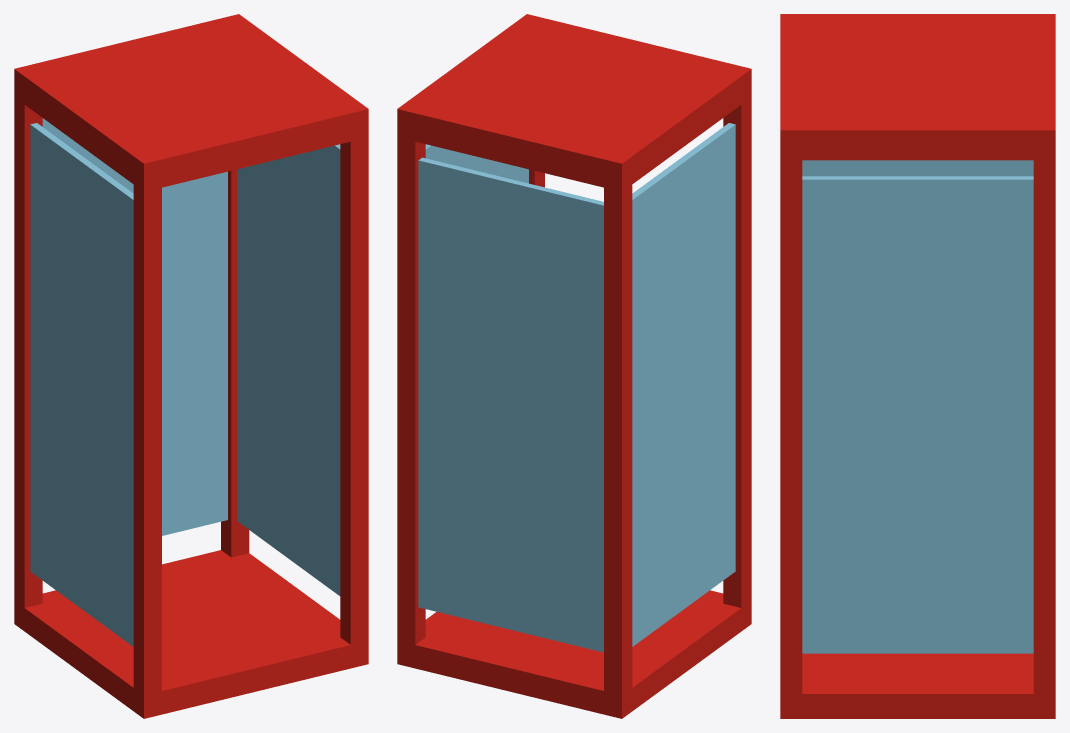
File: phone_booth.glb
3 views of the same model, side by side, from view 1: azimuth 30°, elevation 25°; view 2: azimuth 150°, elevation 25°; view 3: azimuth 270°, elevation 25° (orthographic). The views are drawn at different scales.
Parts seen in each view (by area): view 1: phone_booth; view 2: phone_booth; view 3: phone_booth.
Part boxes in pixels (<box>): phone_booth: <box>14,14,368,718</box>; phone_booth: <box>397,14,751,718</box>; phone_booth: <box>780,14,1055,718</box>.
Bounding box in the file's own units: 1 × 2.36 × 1.
